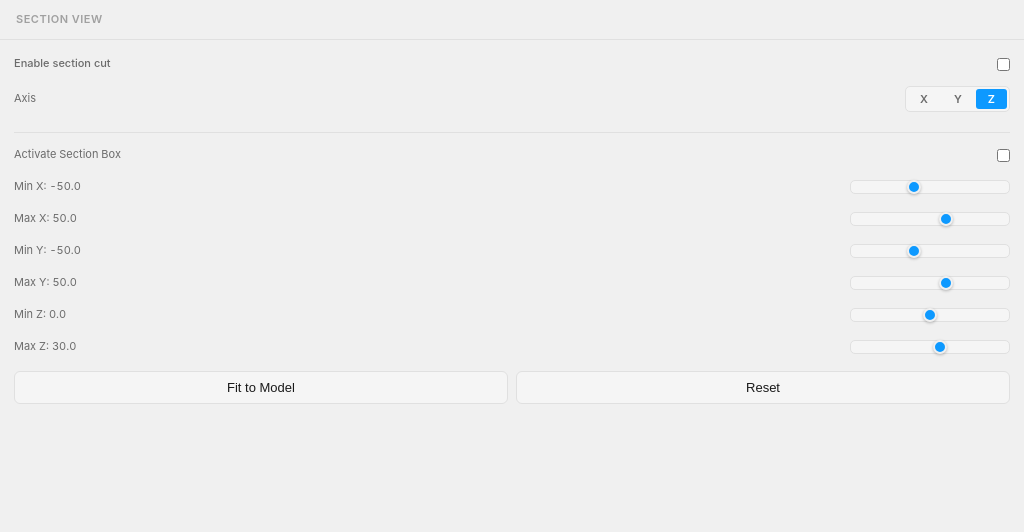
Test: T-BIM-007: SectionBoxPanel (legacy) › checking the toggle shows direction and position controls
Step 1. Click the checkbox labelled "Enable section cut" → [1004, 64], box [997,58,1010,70]
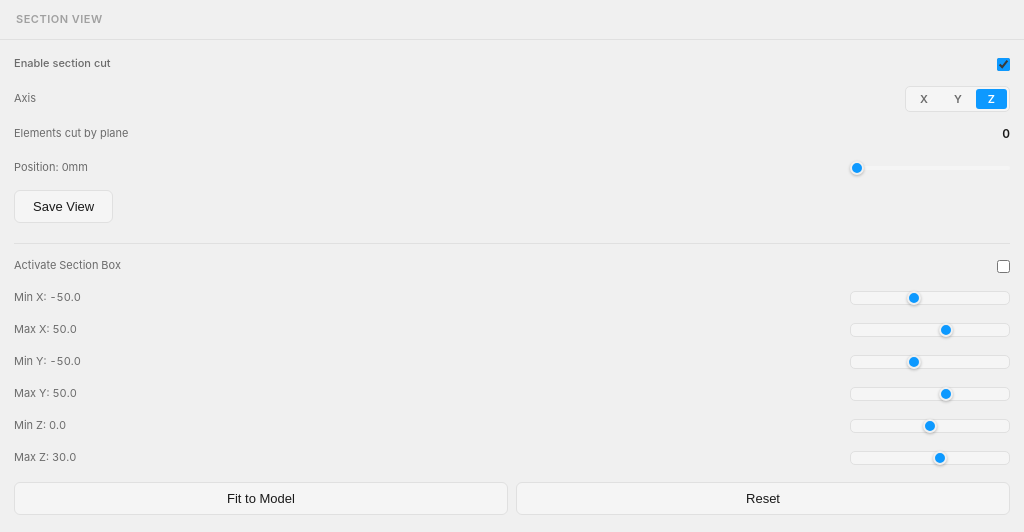
Expected: the slider labelled "Position: 0mm" is shown, [850,166,1010,170]
